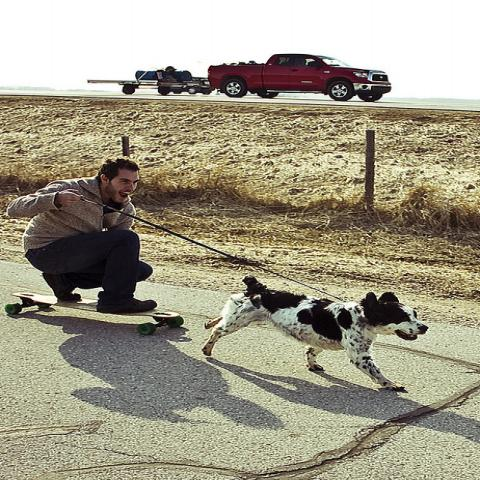truck: (210, 54, 391, 103)
